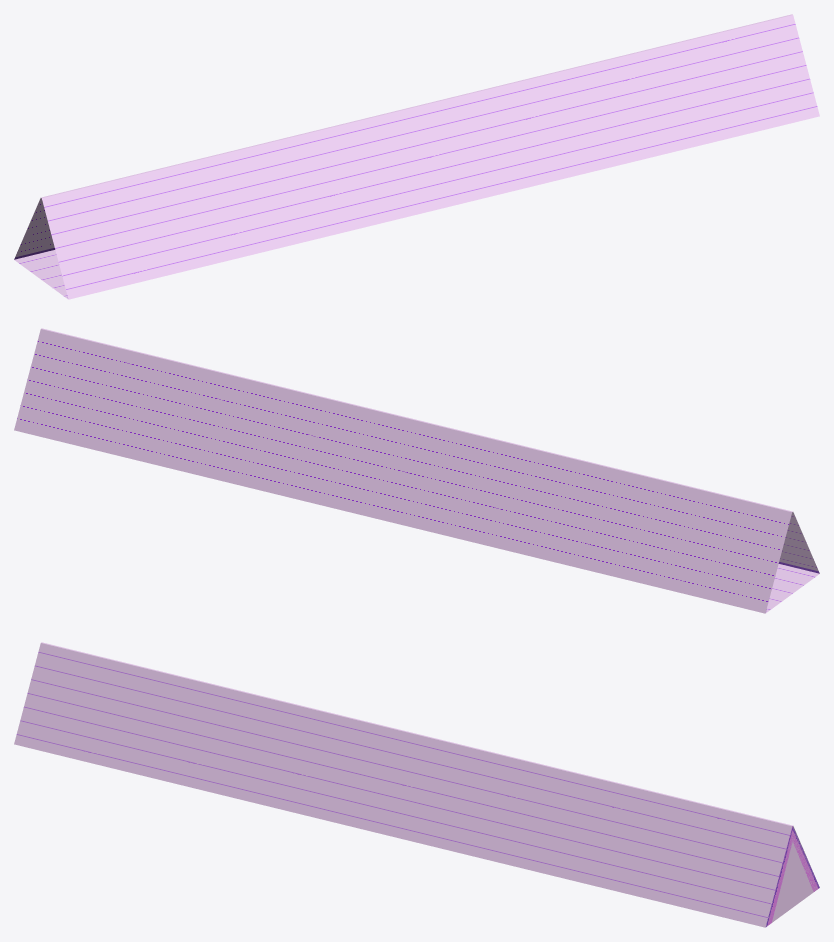
The model's file is infiniteteleporter2.fbx.
3 views of the same model, one above another, from view 1: azimuth 30°, elevation 25°; view 2: azimuth 150°, elevation 25°; view 3: azimuth 330°, elevation 25° (orthographic).
Parts seen in each view (by area): view 1: hallway; view 2: hallway; view 3: hallway, stencilTry, triangles.
Part boxes in pixels (x1=…): hallway: x1=14, y1=14, x2=819, y2=299; hallway: x1=14, y1=328, x2=819, y2=613; hallway: x1=14, y1=642, x2=814, y2=927; stencilTry: x1=766, y1=827, x2=819, y2=925; triangles: x1=766, y1=826, x2=819, y2=926.
Size of the model in its own units: 11143 by 1159 by 1401.
Materials: 2 (2 with a texture image).
